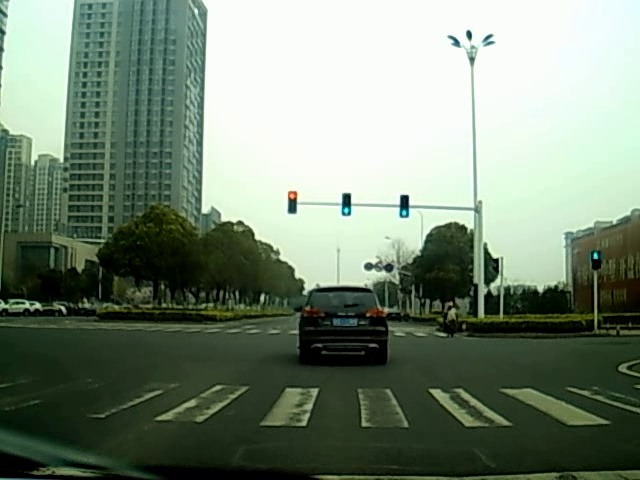Traffic_Light_go: (341, 192, 352, 217), (399, 195, 409, 217)
Traffic_Light_stop: (287, 192, 298, 215)
